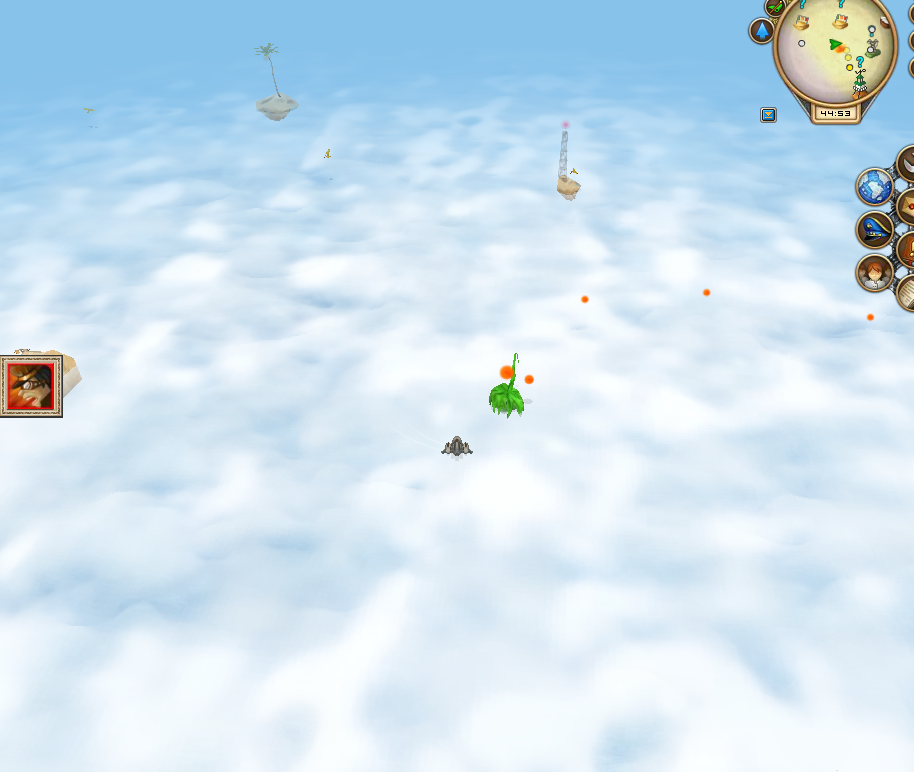dandelion-empty: (250, 41, 299, 124)
dandelion-full: (480, 343, 537, 419)
fluff: (576, 292, 595, 306), (699, 286, 715, 300), (863, 311, 877, 324)
